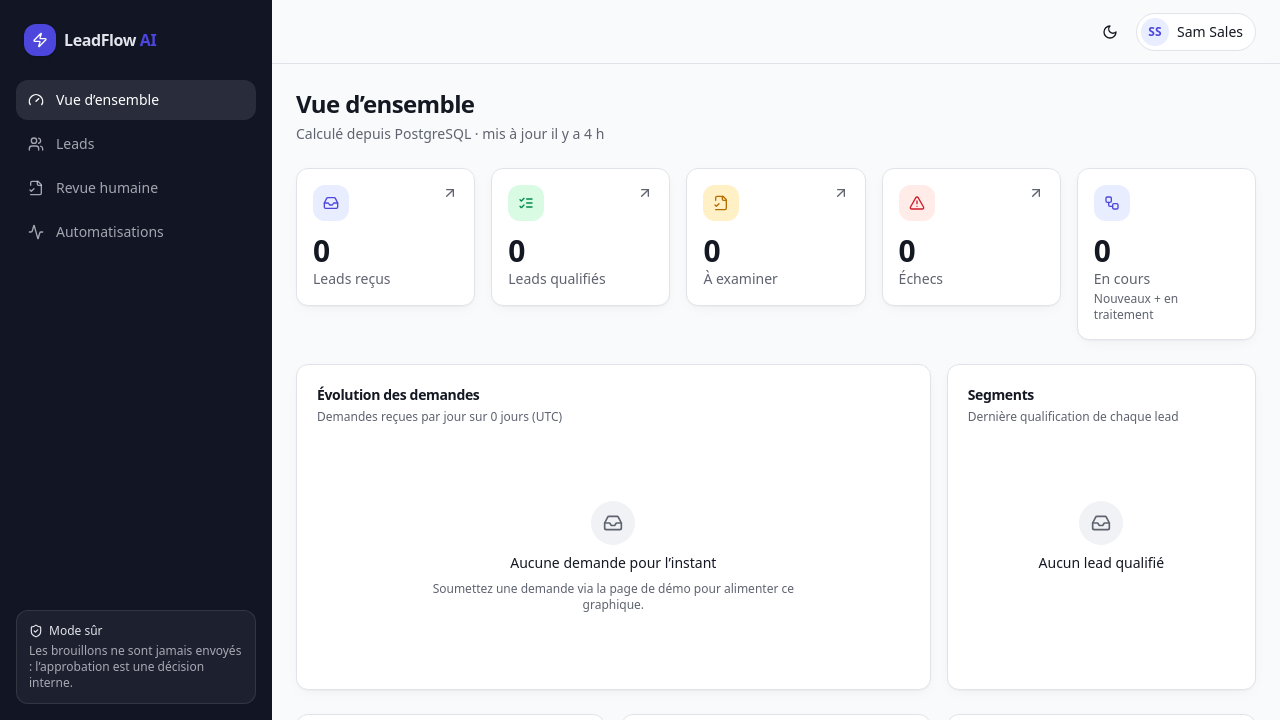
Test: Navigation et accès › la navigation de l’application expose les 4 sections et se déconnecte côté serveur
The width and height of the screenshot is (1280, 720).
Expected: the heading "Vue d’ensemble" is shown, [296,87,474,120]
Expected: the link "Vue d’ensemble" is shown, [16,80,256,120]
Click the button with aria-label "menu utilisateur". click: (1196, 32)
box: [1136,12,1256,50]
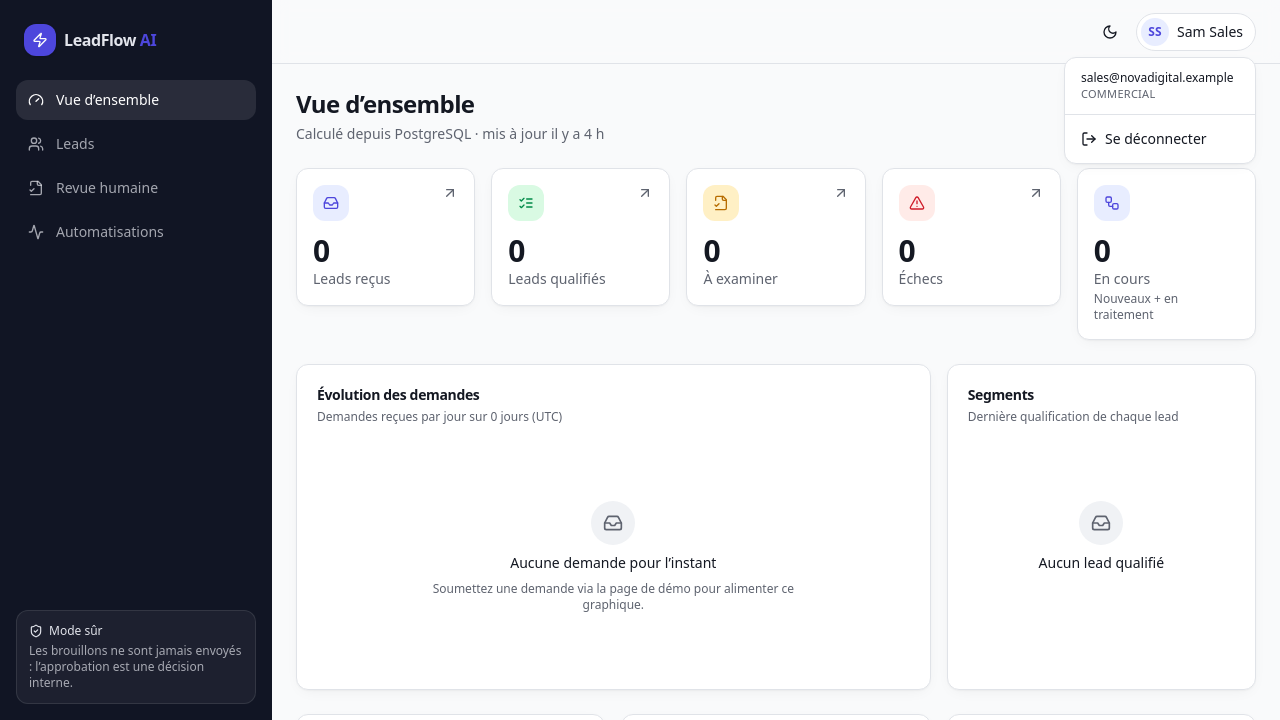
Click the menu item "Se déconnecter". click: (1144, 138)
box: [1081,129,1207,148]
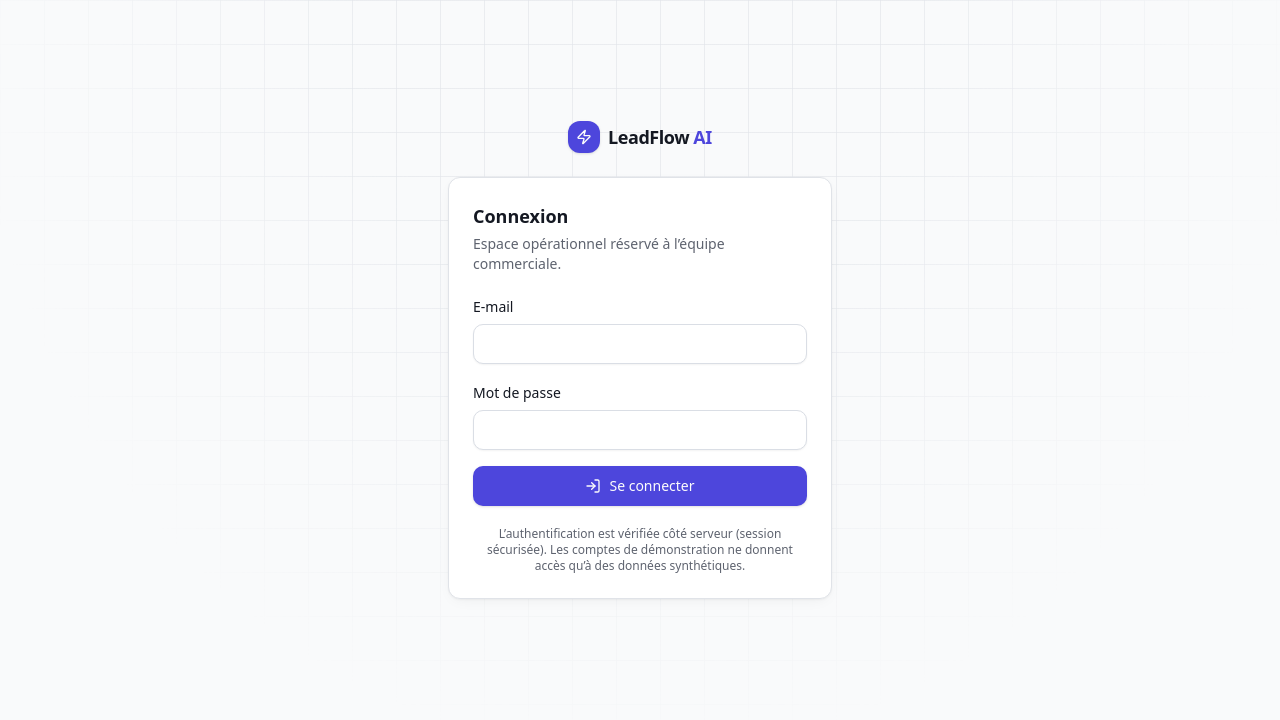
Result: the heading "Connexion" is shown at [473,204,568,228]
